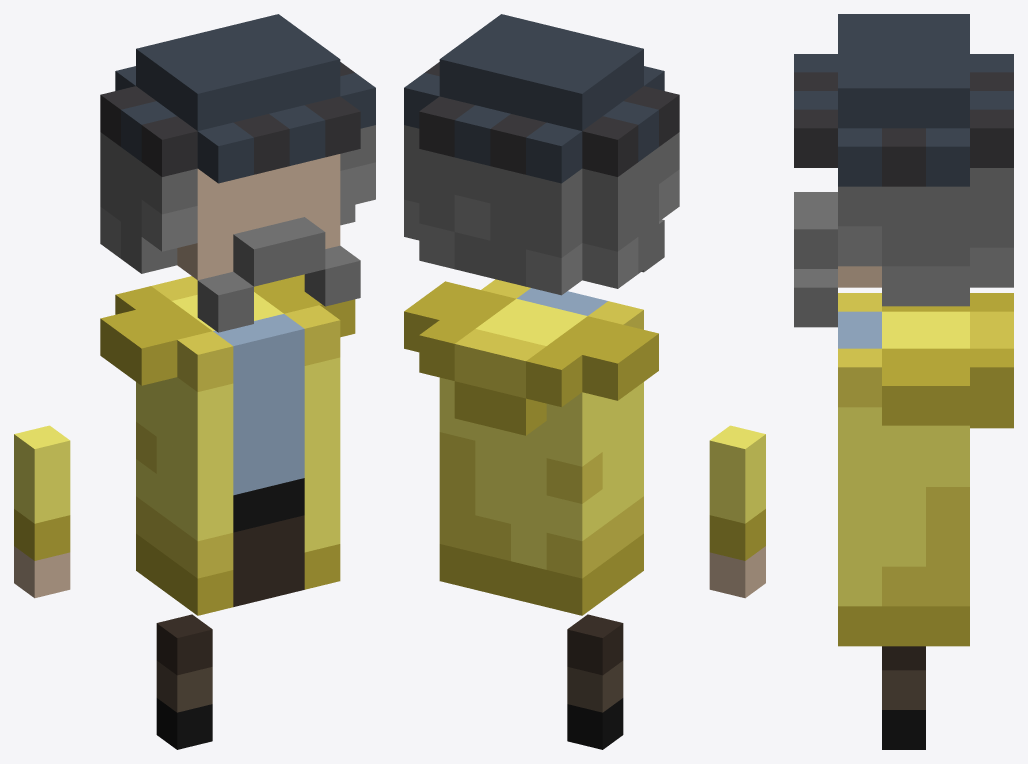
File: fisherman.obj
3 views of the same model, side by side, from view 1: azimuth 30°, elevation 25°; view 2: azimuth 150°, elevation 25°; view 3: azimuth 270°, elevation 25° (orthographic). The views are drawn at different scales.
Bounding box in the file's own units: 9 × 18 × 5.
1 material, 1 textured.
